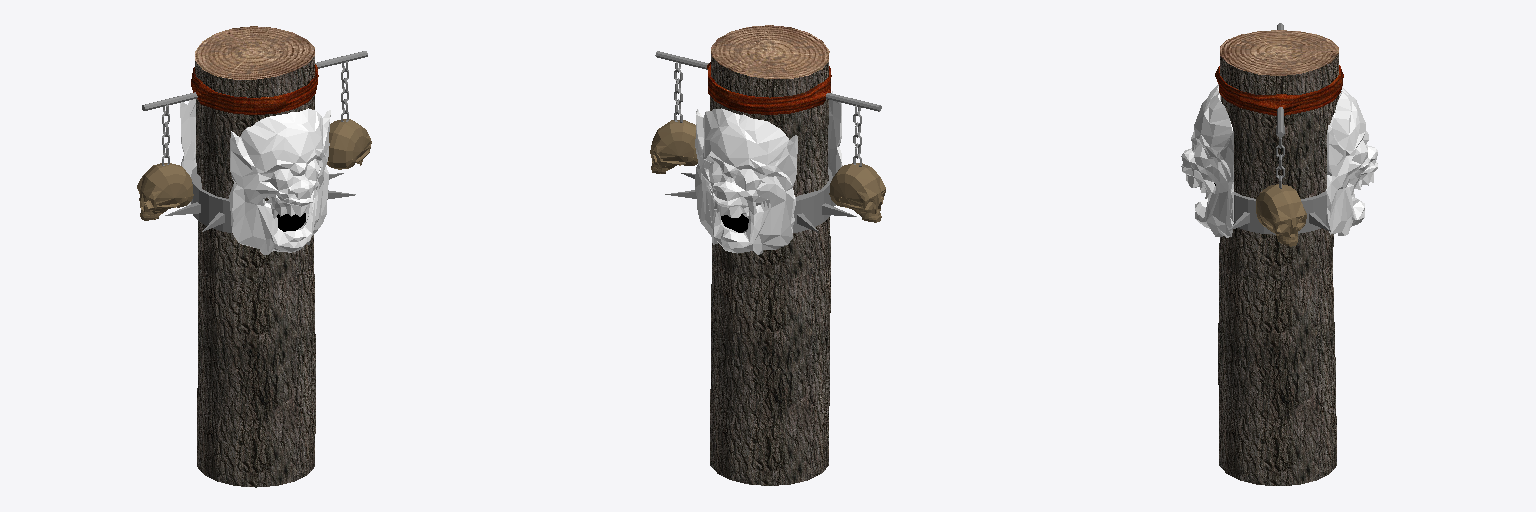
The picture shows the model from 3 angles: view 1: azimuth 30°, elevation 25°; view 2: azimuth 150°, elevation 25°; view 3: azimuth 270°, elevation 25°; orthographic projection.
Parts seen in each view (by area): view 1: Cylinder001, object001, SKULL_HE003, Cylinder004, SKULL_HE002, Cylinder002, object, Cylinder005; view 2: Cylinder001, object, SKULL_HE003, Cylinder004, SKULL_HE002, Cylinder002, object001, Cylinder005; view 3: Cylinder001, object001, object, Cylinder004, SKULL_HE002, Cylinder002.
Boxes of the visible parts, box(x1,y1,x2,y2) form: Cylinder001: box(195, 26, 315, 487); object001: box(229, 108, 330, 254); SKULL_HE003: box(137, 163, 193, 220); Cylinder004: box(191, 64, 318, 114); SKULL_HE002: box(327, 119, 371, 169); Cylinder002: box(191, 166, 305, 232); object: box(180, 99, 196, 205); Cylinder005: box(142, 51, 367, 110); Cylinder001: box(710, 25, 830, 485); object: box(695, 108, 797, 254); SKULL_HE003: box(829, 163, 885, 222); Cylinder004: box(707, 62, 831, 114); SKULL_HE002: box(650, 120, 697, 173); Cylinder002: box(743, 167, 832, 232); object001: box(828, 89, 842, 206); Cylinder005: box(655, 51, 881, 111); Cylinder001: box(1218, 30, 1338, 485); object001: box(1181, 84, 1233, 237); object: box(1326, 86, 1377, 235); Cylinder004: box(1215, 65, 1343, 115); SKULL_HE002: box(1256, 184, 1306, 246); Cylinder002: box(1233, 191, 1326, 234).
Size of the model in its own units: 0.994 by 1.7 by 0.7417.
6 materials, 2 textured.